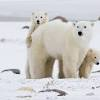PolarBear: (25, 18, 98, 81)
